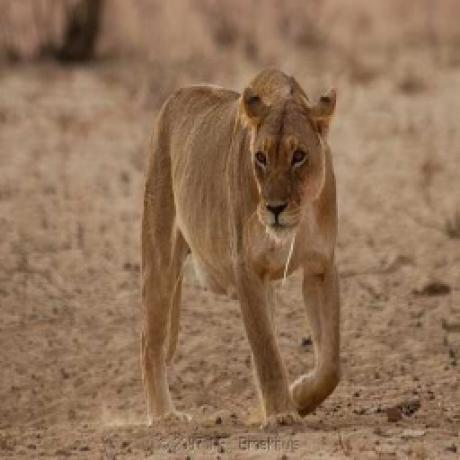Lion: (137, 62, 346, 429)
